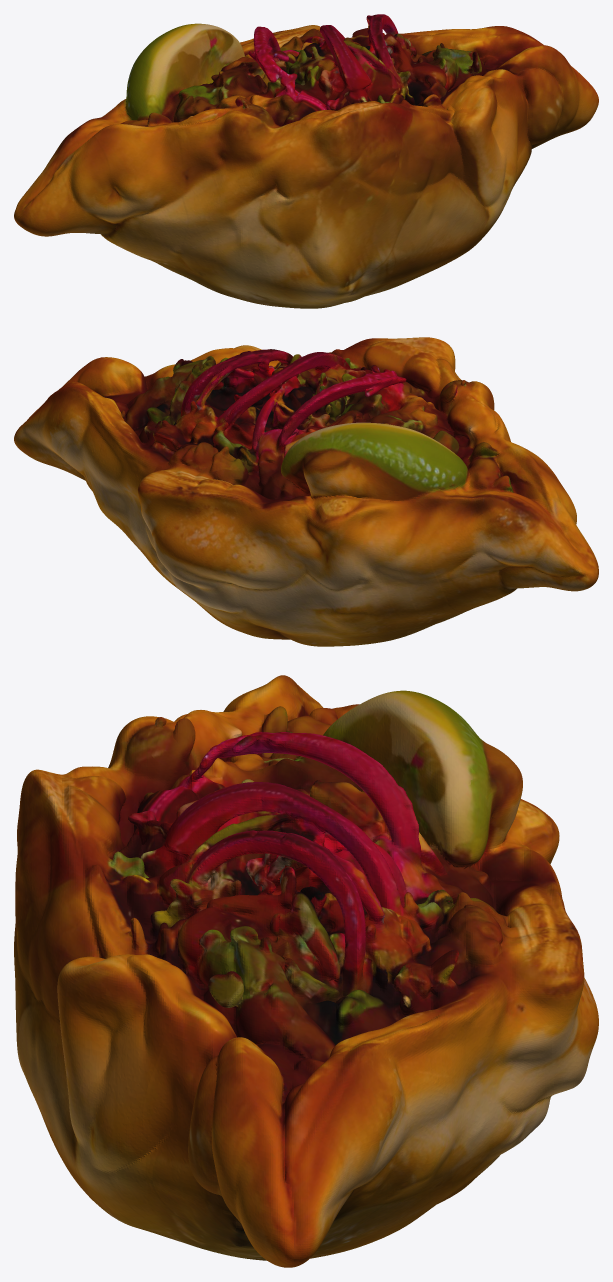
File: mexican-veggie-3D.glb
3 renders of one model, top to bottom at view 1: azimuth 30°, elevation 25°; view 2: azimuth 150°, elevation 25°; view 3: azimuth 270°, elevation 25°, orthographic. The views are drawn at different scales.
Visible parts, largest first — view 1: tripo_node_89559a7b-8468-40d4-a4a8-303cff7a35f7; view 2: tripo_node_89559a7b-8468-40d4-a4a8-303cff7a35f7; view 3: tripo_node_89559a7b-8468-40d4-a4a8-303cff7a35f7.
Part boxes in pixels (left/top/right/bottom): tripo_node_89559a7b-8468-40d4-a4a8-303cff7a35f7: left=14, top=14, right=598, bottom=308; tripo_node_89559a7b-8468-40d4-a4a8-303cff7a35f7: left=14, top=337, right=598, bottom=646; tripo_node_89559a7b-8468-40d4-a4a8-303cff7a35f7: left=14, top=675, right=598, bottom=1267.
Bounding box in the file's own units: 1 × 0.433 × 0.5192.
1 material, 1 textured.
